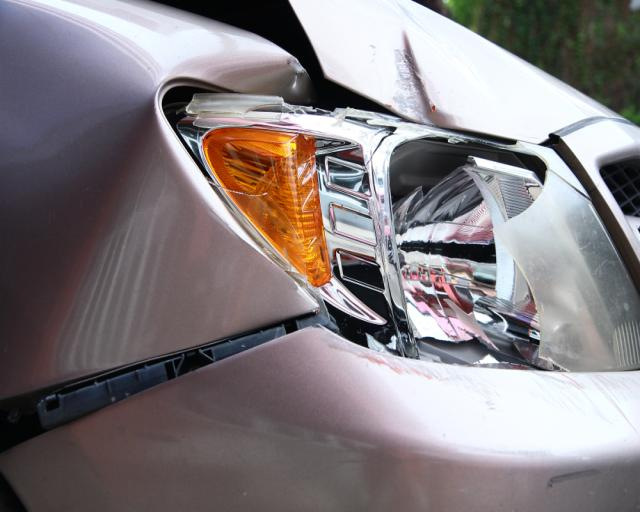dent: (341, 25, 453, 126)
lamp broken: (174, 82, 640, 379)
scratch: (327, 331, 640, 424), (490, 439, 602, 489)
